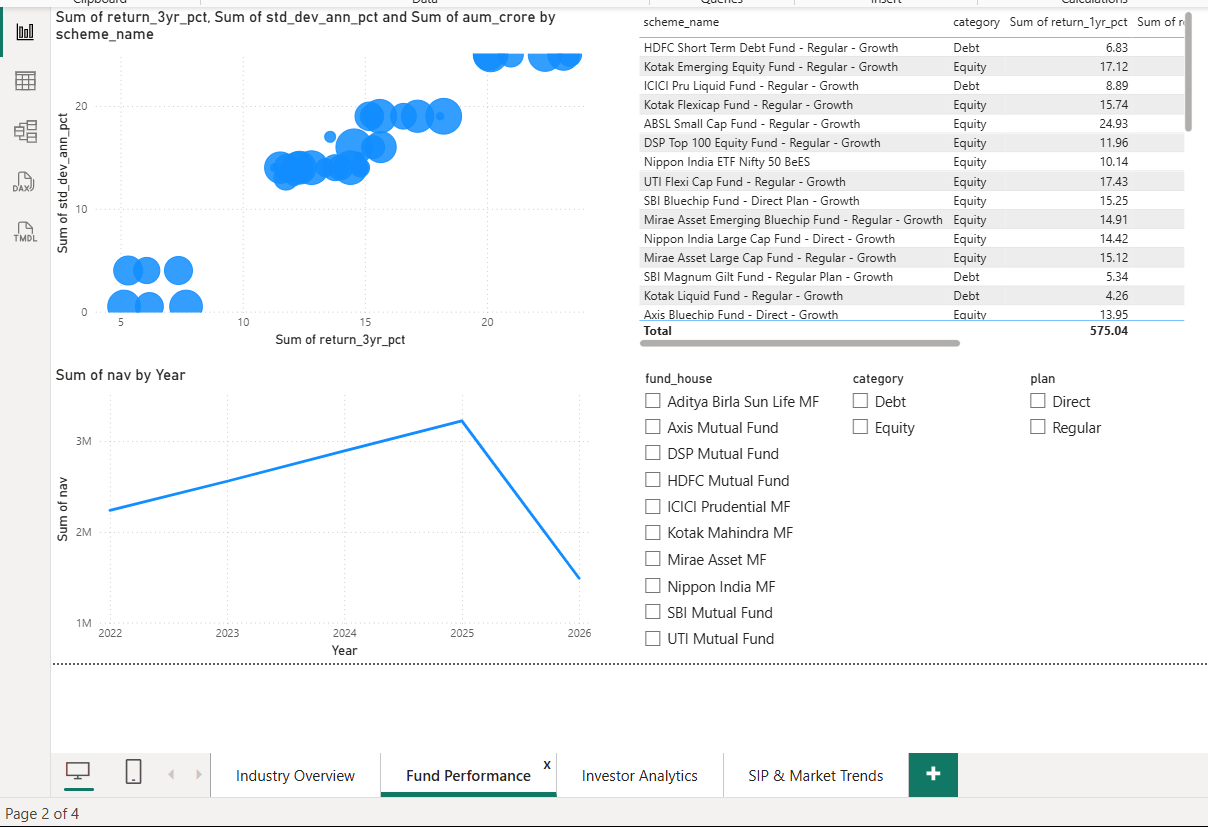

The page's visual inventory and layout, read from the dashboard file:
{"tool":"powerbi","page":{"name":"Fund Performance","canvas":[1280,720],"ordinal":1},"visuals":[{"type":"scatterChart","fields":{"X":["Sum(07_scheme_performance.return_3yr_pct)"],"Y":["Sum(07_scheme_performance.std_dev_ann_pct)"],"Size":["Sum(07_scheme_performance.aum_crore)"],"Category":["01_fund_master.scheme_name"]},"box":[0,0,598,378.4],"z":0},{"type":"tableEx","fields":{"Values":["01_fund_master.scheme_name","01_fund_master.category","Sum(07_scheme_performance.return_1yr_pct)","Sum(07_scheme_performance.return_3yr_pct)","Sum(07_scheme_performance.expense_ratio_pct)","Sum(07_scheme_performance.alpha)","Sum(07_scheme_performance.beta)"]},"box":[639.4,0,618.7,378.4],"z":1000},{"type":"lineChart","fields":{"Category":["dim_date.date.Variation.Date Hierarchy.Year","dim_date.date.Variation.Date Hierarchy.Quarter","dim_date.date.Variation.Date Hierarchy.Month","dim_date.date.Variation.Date Hierarchy.Day"],"Y":["Sum(02_nav_history.nav)"]},"box":[0,393.6,598,325.9],"z":2000},{"type":"slicer","fields":{"Values":["01_fund_master.fund_house"]},"box":[639.4,393.6,215.5,325.9],"z":3000},{"type":"slicer","fields":{"Values":["01_fund_master.category"]},"box":[867.3,393.6,194.7,325.9],"z":4000},{"type":"slicer","fields":{"Values":["01_fund_master.plan"]},"box":[1062,394,196,326],"z":5000}]}

Visuals, with their boxes on the page's 1280x720 design canvas (x1, y1, x2, y2). These are canvas units, not pixel positions in the 1208x827 screenshot, which may show the page scaled, cropped or inside an application window:
scatterChart - Sum(07_scheme_performance.return_3yr_pct) x Sum(07_scheme_performance.std_dev_ann_pct): box=[0, 0, 598, 378]
tableEx - 01_fund_master.scheme_name x 01_fund_master.category: box=[639, 0, 1258, 378]
lineChart - dim_date.date.Variation.Date Hierarchy.Year x dim_date.date.Variation.Date Hierarchy.Quarter: box=[0, 394, 598, 720]
slicer - 01_fund_master.fund_house: box=[639, 394, 855, 720]
slicer - 01_fund_master.category: box=[867, 394, 1062, 720]
slicer - 01_fund_master.plan: box=[1062, 394, 1258, 720]
